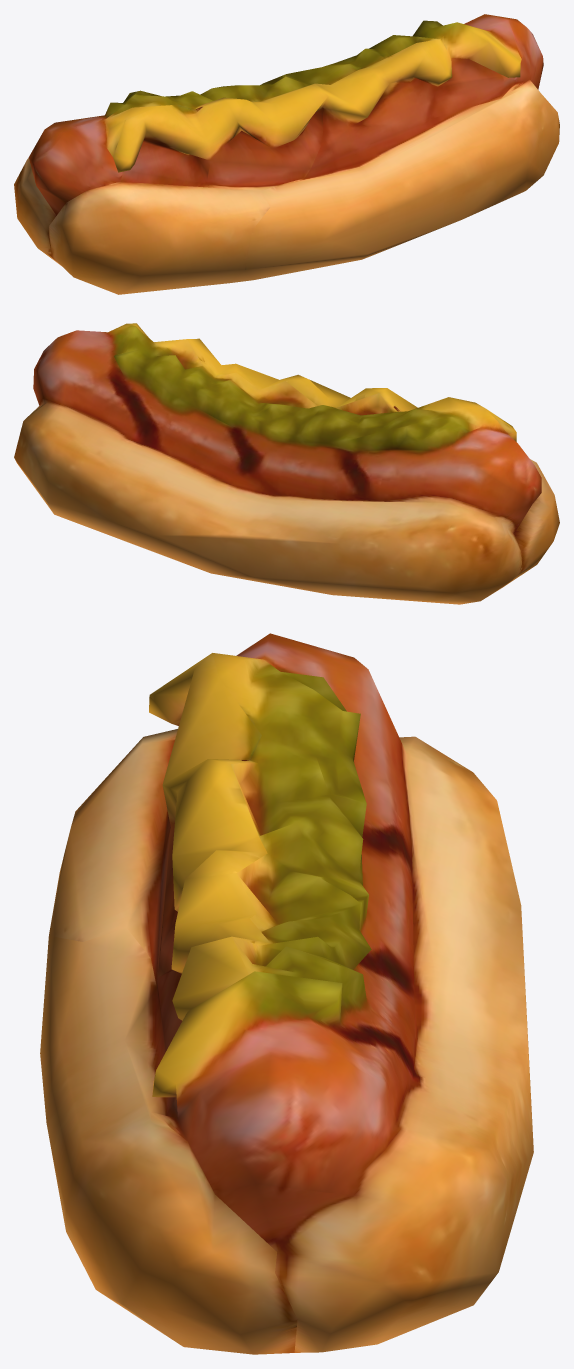
File: frank-mini-hotdog.glb
The picture shows the model from 3 angles, top to bottom: view 1: azimuth 30°, elevation 25°; view 2: azimuth 150°, elevation 25°; view 3: azimuth 270°, elevation 25°; orthographic projection. The views are drawn at different scales.
Visible parts, largest first — view 1: model; view 2: model; view 3: model.
Boxes of the visible parts, <box> form: model: <box>14,14,559,294</box>; model: <box>14,323,559,604</box>; model: <box>40,633,533,1354</box>.
Size of the model in its own units: 0.9975 by 0.3563 by 0.4296.
Materials: 1 (1 with a texture image).
